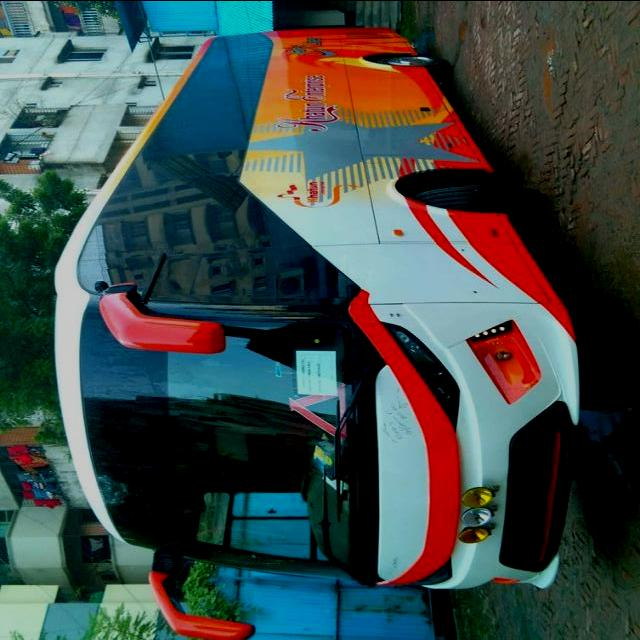bus: (52, 25, 585, 640)
